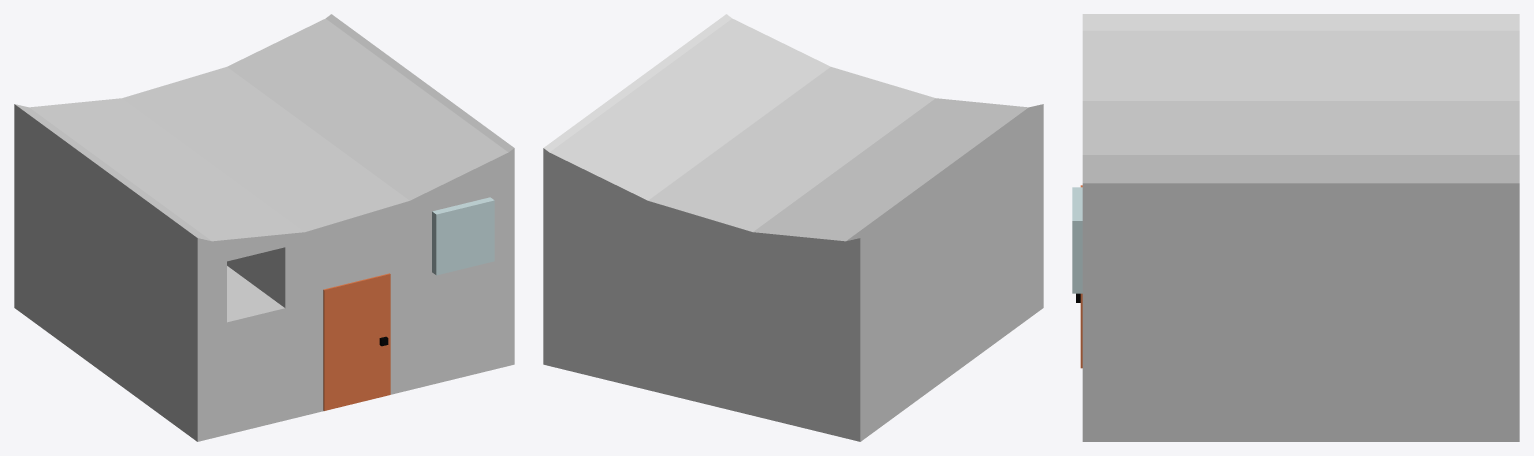
File: Casa en obra.fbx
3 views of the same model, side by side, from view 1: azimuth 30°, elevation 25°; view 2: azimuth 150°, elevation 25°; view 3: azimuth 270°, elevation 25° (orthographic). The views are drawn at different scales.
Parts seen in each view (by area): view 1: Cube, Cube.001, Cube.003; view 2: Cube; view 3: Cube, Cube.003.
Boxes of the visible parts, bbox=[...] form: Cube: bbox=[14, 14, 514, 441]; Cube.001: bbox=[323, 273, 390, 410]; Cube.003: bbox=[432, 197, 494, 275]; Cube: bbox=[543, 14, 1043, 441]; Cube: bbox=[1082, 14, 1519, 441]; Cube.003: bbox=[1072, 187, 1082, 293].
Bounding box in the file's own units: 125 × 81.62 × 128.
